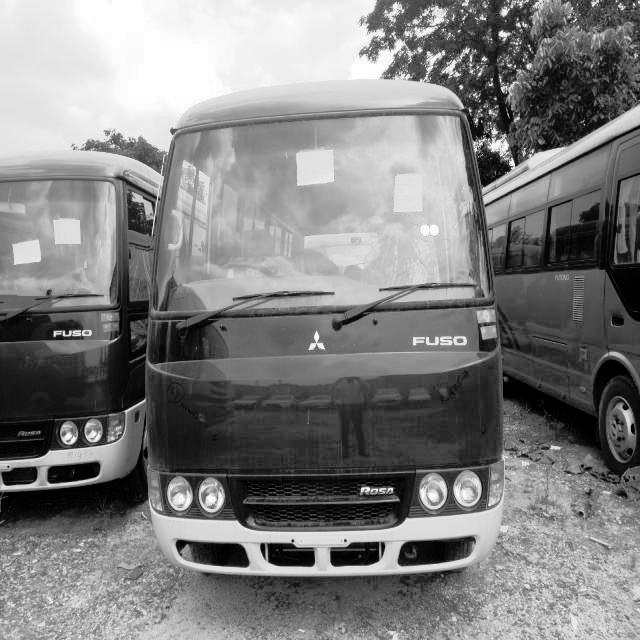Bus: (146, 62, 510, 592), (0, 126, 146, 533), (475, 97, 639, 457)
